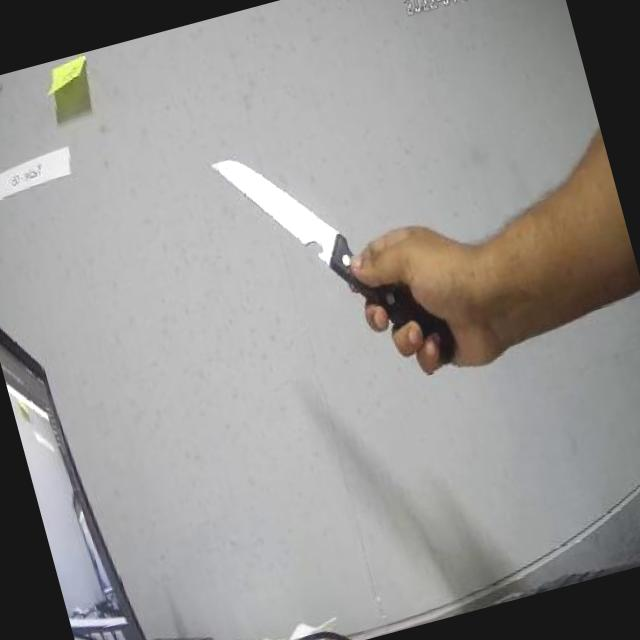knife: (192, 88, 471, 416)
